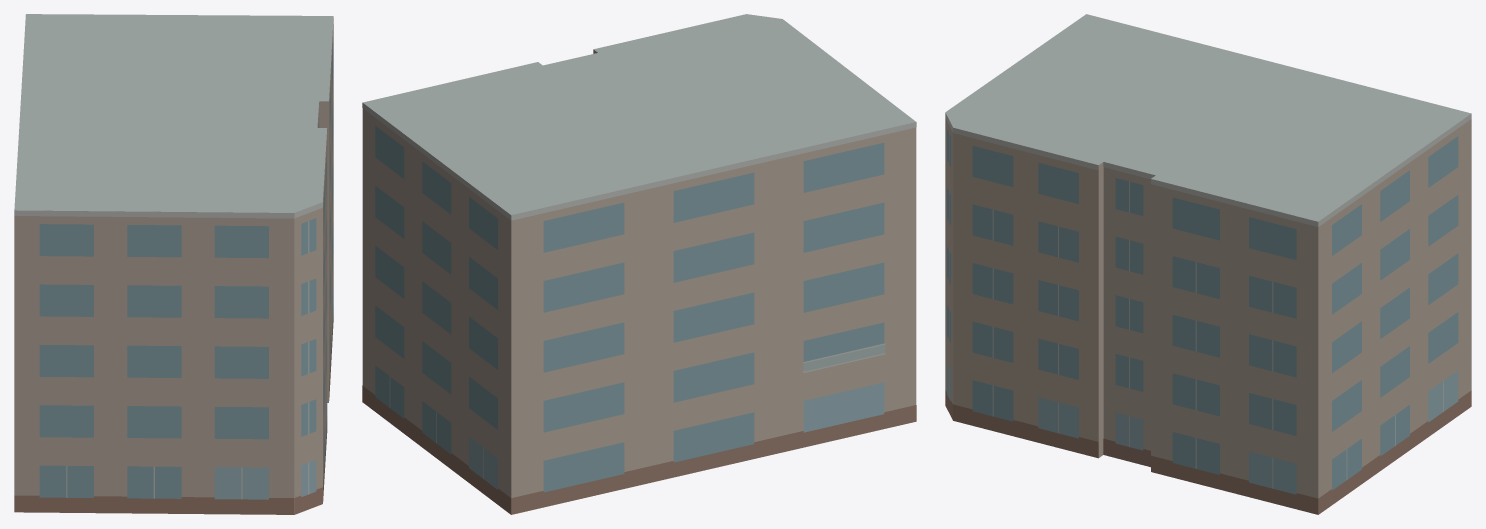
The model's file is survey-upis-32680398.glb.
3 renders of one model, left to right at view 1: azimuth 30°, elevation 25°; view 2: azimuth 150°, elevation 25°; view 3: azimuth 270°, elevation 25°, orthographic. The views are drawn at different scales.
Parts seen in each view (by area): view 1: survey-upis-32680398.tmp; view 2: survey-upis-32680398.tmp; view 3: survey-upis-32680398.tmp.
Boxes of the visible parts, box(x1,y1,x2,y2) form: survey-upis-32680398.tmp: box(14, 14, 333, 514); survey-upis-32680398.tmp: box(362, 14, 916, 514); survey-upis-32680398.tmp: box(945, 14, 1471, 514).
Size of the model in its own units: 20.46 by 13.45 by 21.9.
